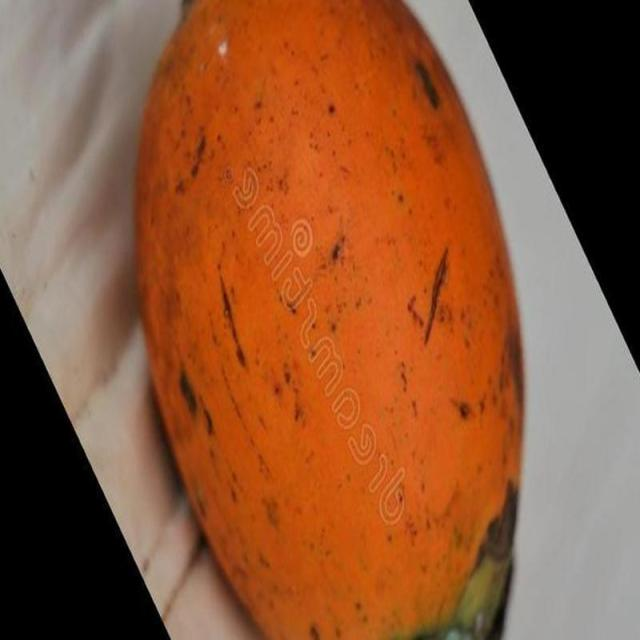good: (134, 0, 526, 639)
